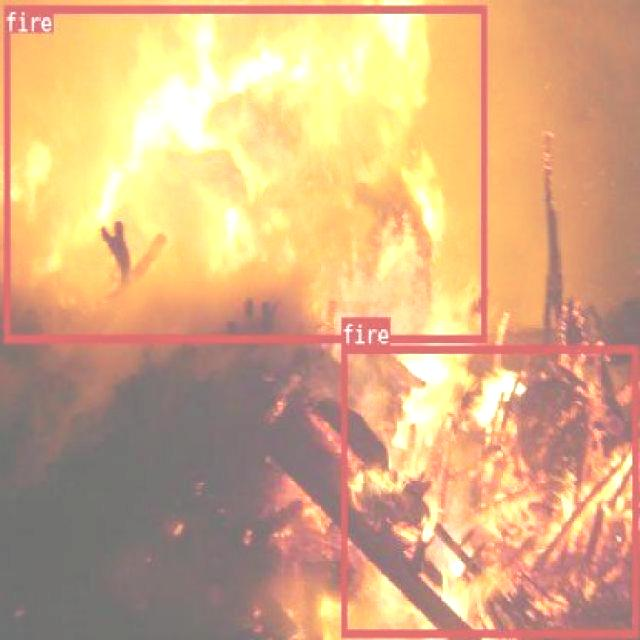fire: (3, 4, 486, 341), (340, 344, 637, 636)
